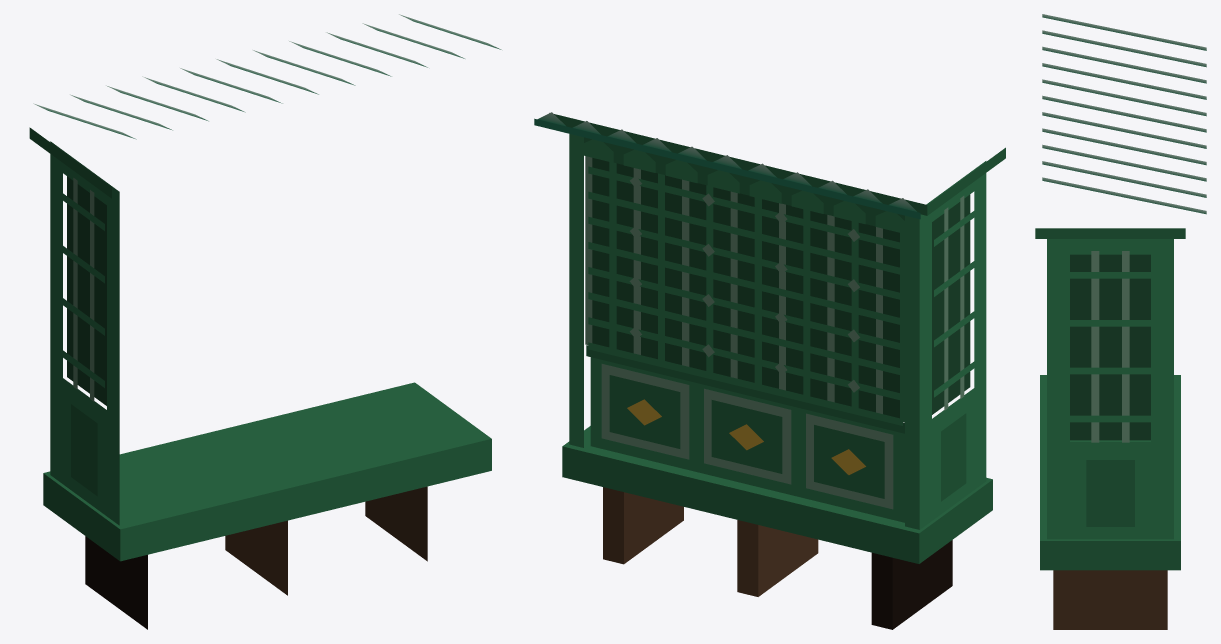
File: balcony_lattice_green.glb
3 views of the same model, side by side, from view 1: azimuth 30°, elevation 25°; view 2: azimuth 150°, elevation 25°; view 3: azimuth 270°, elevation 25° (orthographic). The views are drawn at different scales.
Parts seen in each view (by area): view 1: balcony_lattice_green; view 2: balcony_lattice_green; view 3: balcony_lattice_green.
Boxes of the visible parts, bbox=[...] form: balcony_lattice_green: bbox=[29, 14, 501, 629]; balcony_lattice_green: bbox=[534, 112, 1005, 629]; balcony_lattice_green: bbox=[1035, 14, 1206, 629].
Bounding box in the file's own units: 1.84 × 2.23 × 0.74.
